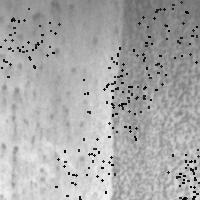pitted_surface: (112, 1, 199, 198), (1, 2, 86, 193), (83, 79, 143, 138), (106, 47, 165, 106), (138, 1, 196, 61), (55, 148, 114, 200), (3, 8, 58, 63), (0, 19, 41, 76), (167, 148, 200, 200), (172, 149, 200, 200)
